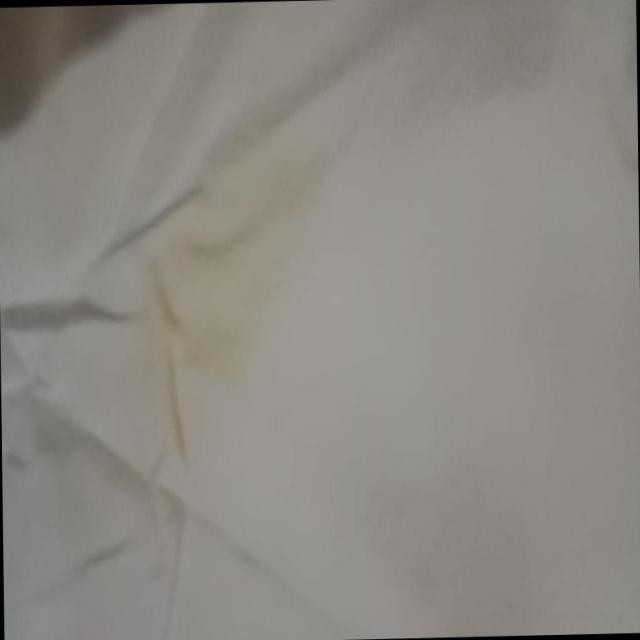stain: (141, 137, 300, 418)
